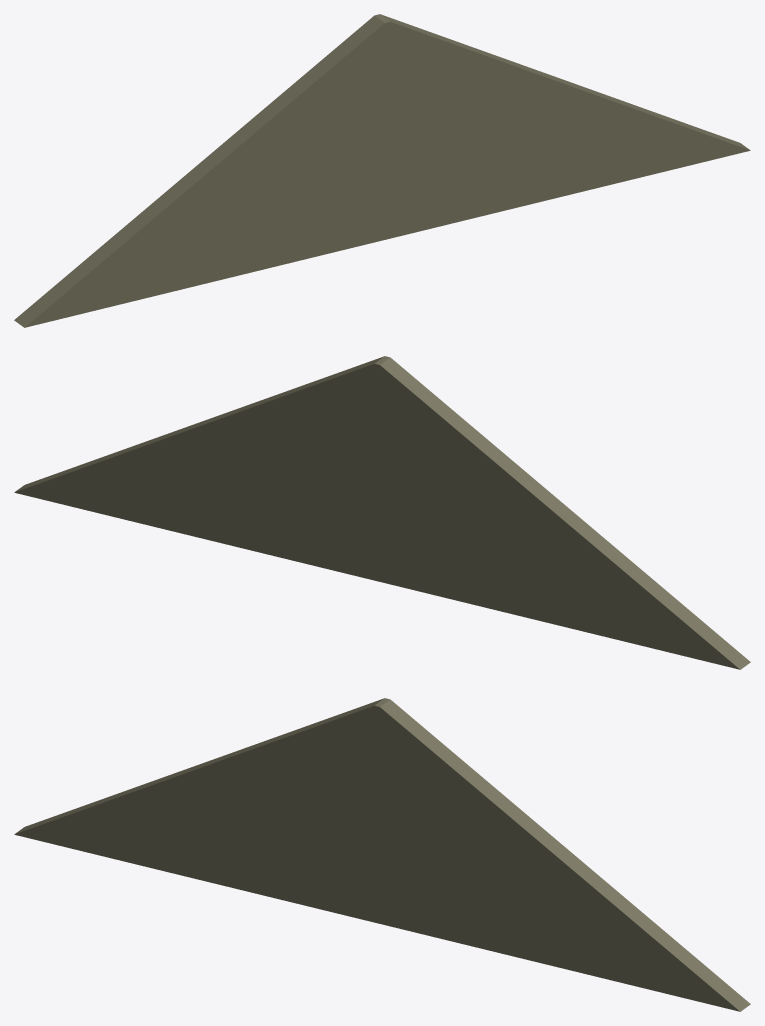
Rendered from attickWall.fbx.
3 views of the same model, one above another, from view 1: azimuth 30°, elevation 25°; view 2: azimuth 150°, elevation 25°; view 3: azimuth 330°, elevation 25° (orthographic).
Visible parts, largest first — view 1: attickWall; view 2: attickWall; view 3: attickWall.
Boxes of the visible parts, bbox=[...] form: attickWall: bbox=[14, 14, 750, 327]; attickWall: bbox=[14, 356, 750, 669]; attickWall: bbox=[14, 698, 750, 1011].
Size of the model in its own units: 400 by 114 by 10.
